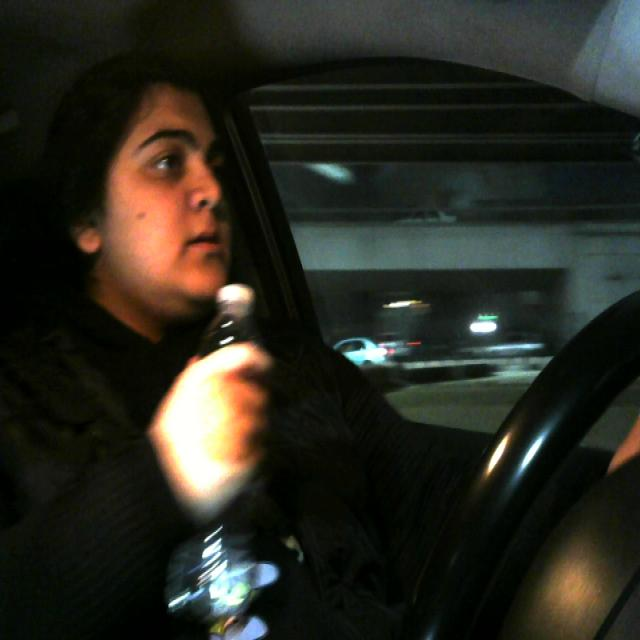drinking: (163, 271, 261, 633)
